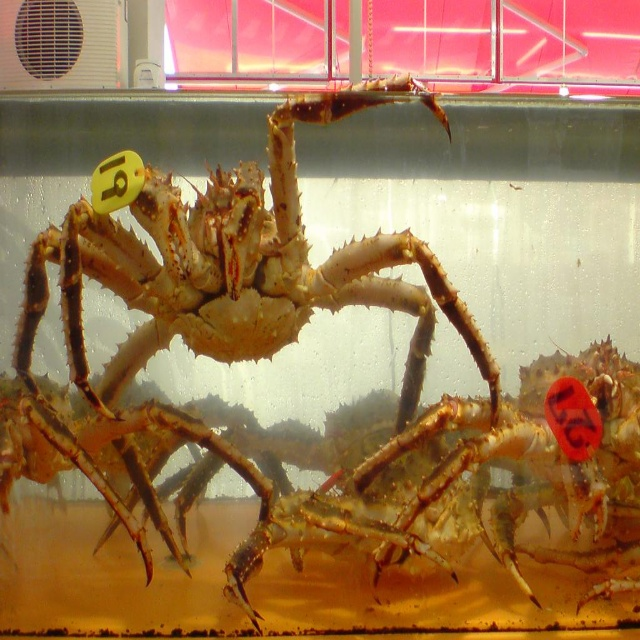Crab: (0, 71, 640, 637)
